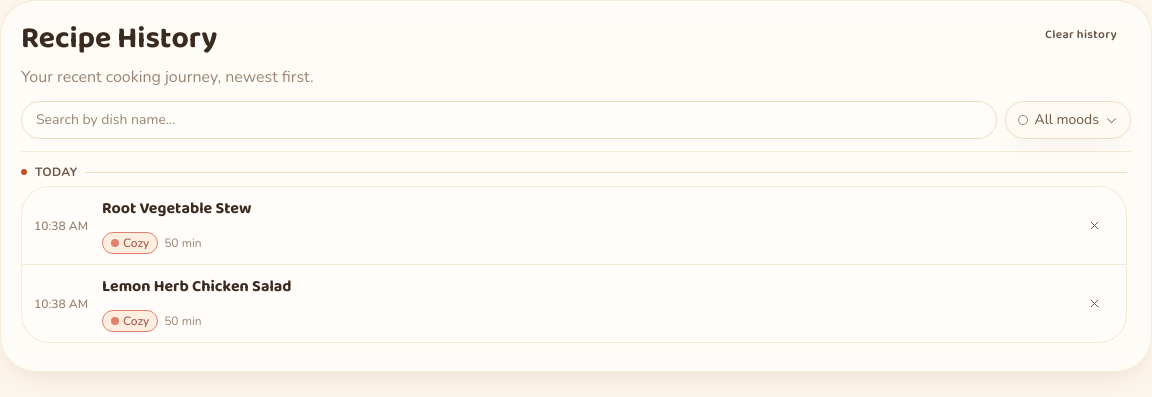
Test: RecipeHistoryScreen › filters by search text, distinct from the true empty state
Type "salad" into the search field named "search history". click: (509, 120)
box: [21,101,997,139]
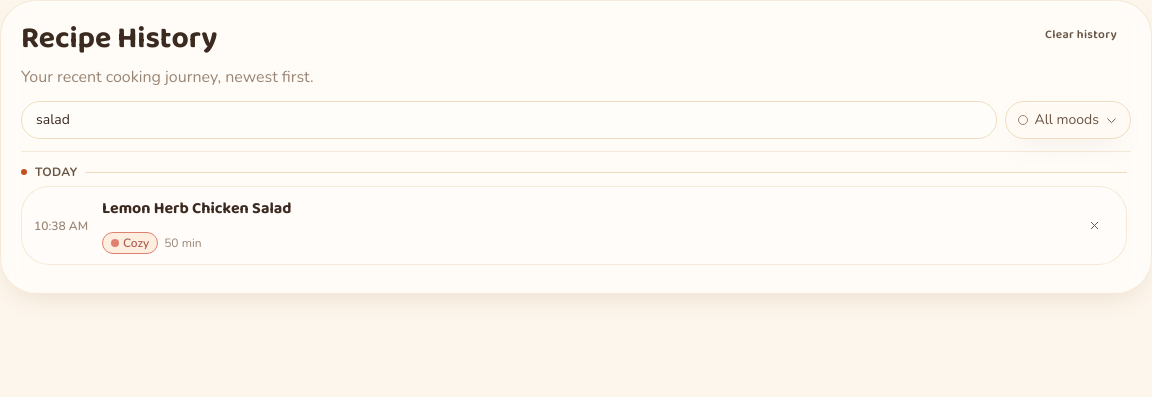
Expected: the text "Lemon Herb Chicken Salad" is shown, [102,197,292,221]
Now the button "Root Vegetable Stew" is gone
